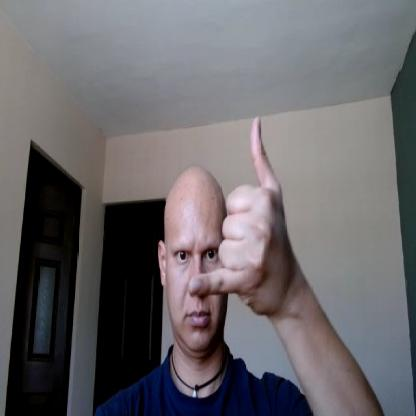Y: (188, 110, 293, 320)
